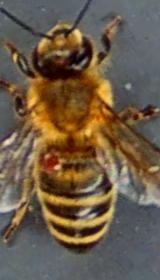varroa_mite: (36, 146, 65, 176)
